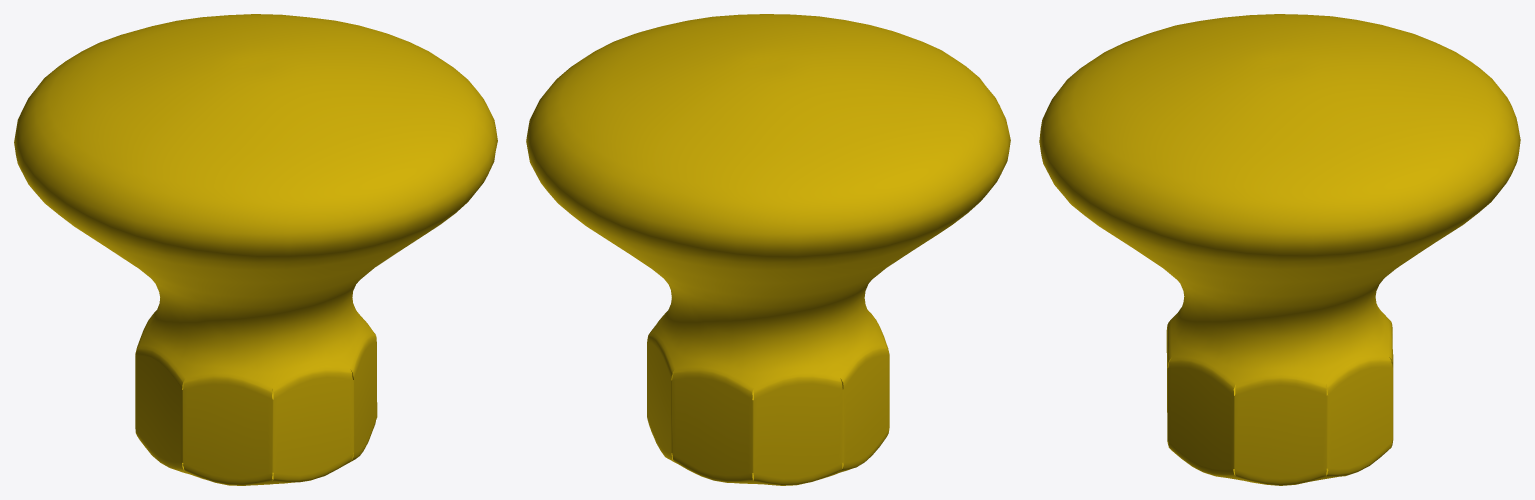
Rendered from original_2.obj.
3 views of the same model, side by side, from view 1: azimuth 30°, elevation 25°; view 2: azimuth 150°, elevation 25°; view 3: azimuth 270°, elevation 25° (orthographic).
Parts seen in each view (by area): view 1: #ID8; view 2: #ID8; view 3: #ID8.
Part boxes in pixels (x1=…): #ID8: x1=14, y1=14, x2=497, y2=485; #ID8: x1=526, y1=14, x2=1010, y2=485; #ID8: x1=1039, y1=14, x2=1520, y2=485.
Bounding box in the file's own units: 0.2188 × 0.1898 × 0.2191.
